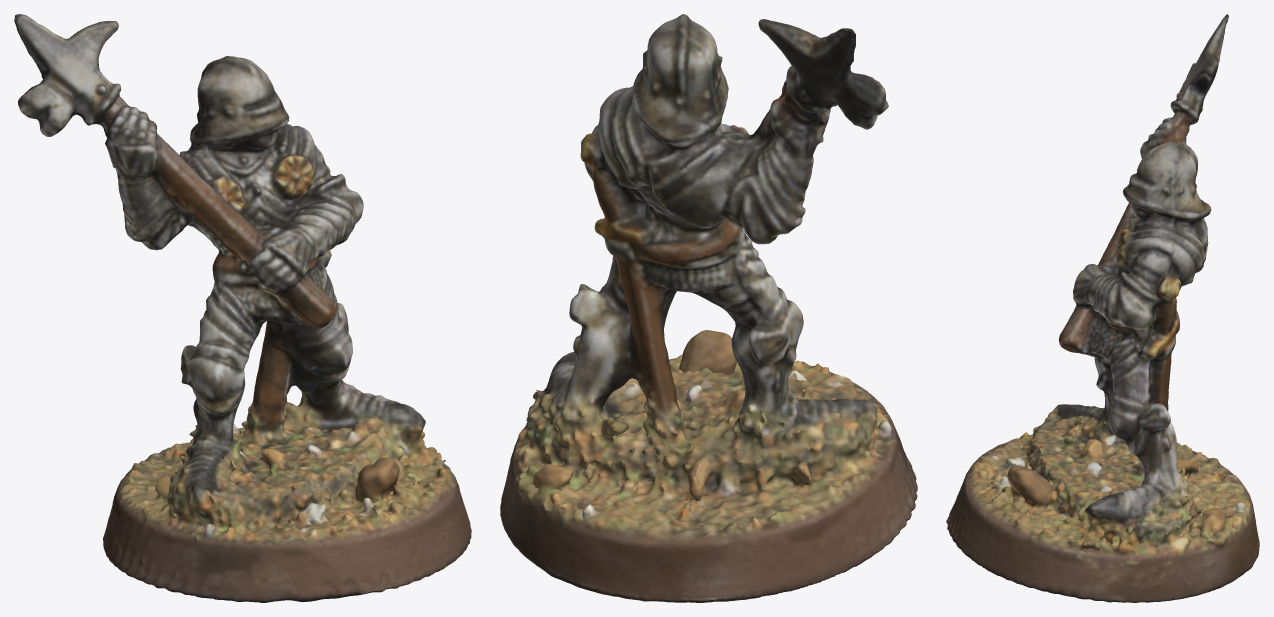
Rendered from knight.gltf.
3 renders of one model, left to right at view 1: azimuth 30°, elevation 25°; view 2: azimuth 150°, elevation 25°; view 3: azimuth 270°, elevation 25°, orthographic. The views are drawn at different scales.
Visible parts, largest first — view 1: Geode; view 2: Geode; view 3: Geode.
Part boxes in pixels (left/top/right/bottom): Geode: left=14, top=14, right=471, bottom=602; Geode: left=500, top=14, right=917, bottom=602; Geode: left=946, top=14, right=1259, bottom=602.
Bounding box in the file's own units: 29.55 × 40.68 × 25.55.
1 material, 1 textured.
